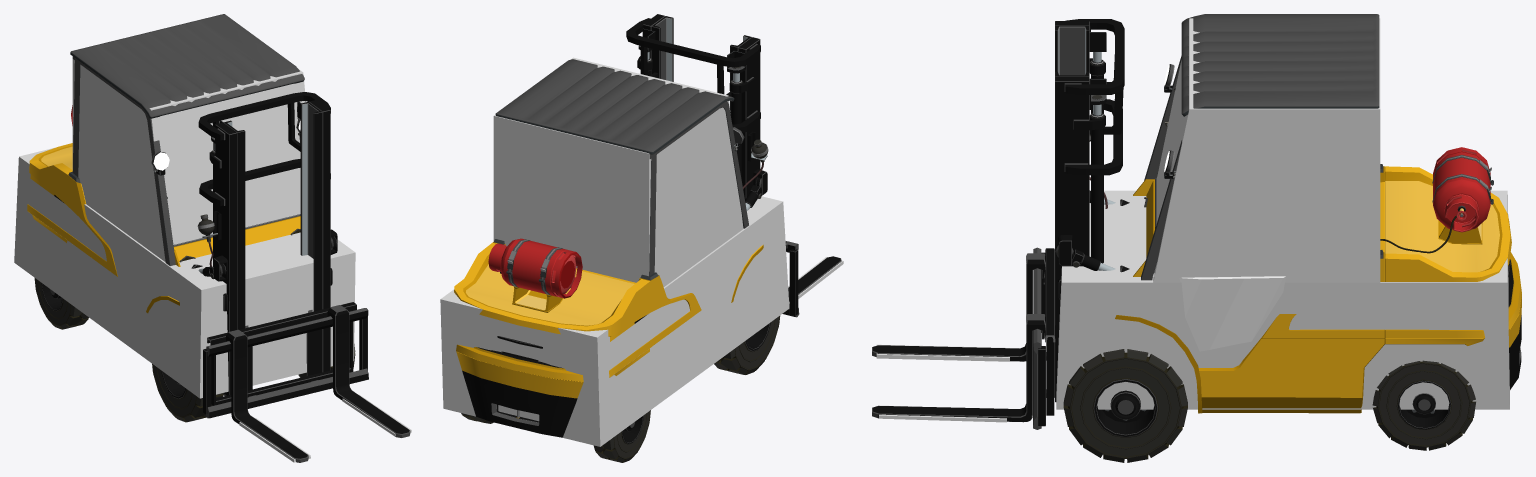
The model's file is lifter.glb.
The picture shows the model from 3 angles, left to right: view 1: azimuth 30°, elevation 25°; view 2: azimuth 150°, elevation 25°; view 3: azimuth 270°, elevation 25°; orthographic projection. The views are drawn at different scales.
Parts seen in each view (by area): view 1: body, Cube.008, Cube.002, lift, wheel_fr, wheel; view 2: body, Cube.002, Cube.008, gaz, wheel_fr, lift, wheel; view 3: body, Cube.002, Cube.008, wheel_fl, lift, Cylinder.001, door_1, gaz, Cube.
Part boxes in pixels (x1=…): body: x1=27, y1=14, x2=337, y2=395; Cube.008: x1=14, y1=147, x2=355, y2=398; Cube.002: x1=72, y1=59, x2=305, y2=261; lift: x1=203, y1=302, x2=410, y2=462; wheel_fr: x1=152, y1=364, x2=223, y2=422; wheel: x1=34, y1=278, x2=88, y2=329; body: x1=454, y1=14, x2=768, y2=437; Cube.002: x1=493, y1=57, x2=743, y2=286; Cube.008: x1=440, y1=196, x2=789, y2=446; gaz: x1=488, y1=238, x2=582, y2=298; wheel_fr: x1=714, y1=315, x2=780, y2=374; lift: x1=782, y1=241, x2=841, y2=317; wheel: x1=593, y1=410, x2=650, y2=462; body: x1=1055, y1=14, x2=1521, y2=413; Cube.002: x1=1153, y1=18, x2=1380, y2=282; Cube.008: x1=1056, y1=190, x2=1509, y2=409; wheel_fl: x1=1063, y1=349, x2=1187, y2=462; lift: x1=872, y1=247, x2=1055, y2=429; Cylinder.001: x1=1372, y1=360, x2=1475, y2=450; door_1: x1=1152, y1=273, x2=1286, y2=351; gaz: x1=1432, y1=147, x2=1493, y2=232; Cube: x1=876, y1=344, x2=1009, y2=361.
Bounding box in the file's own units: 1.07 × 1.88 × 3.03.
